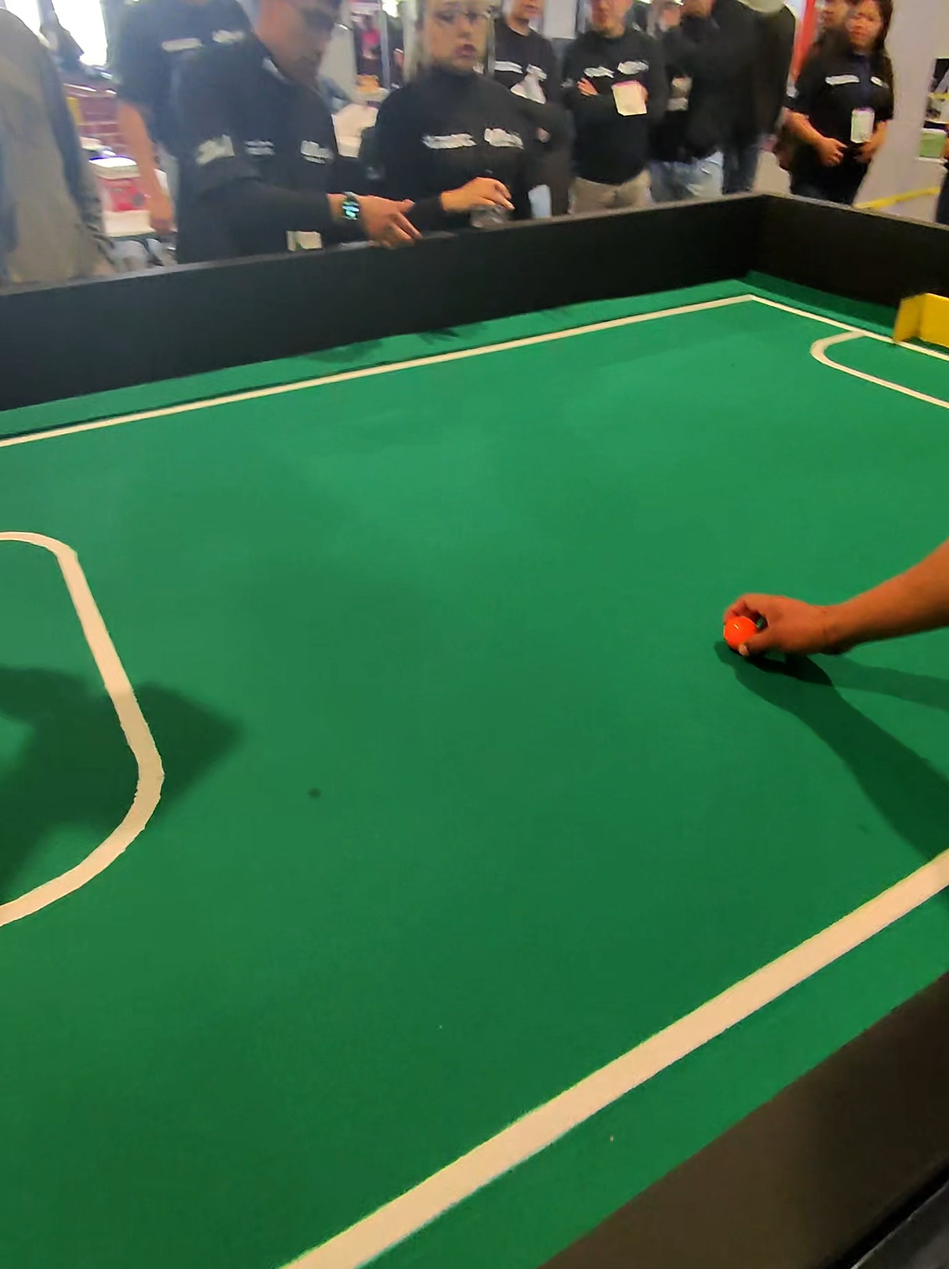pelota: (713, 605, 772, 670)
